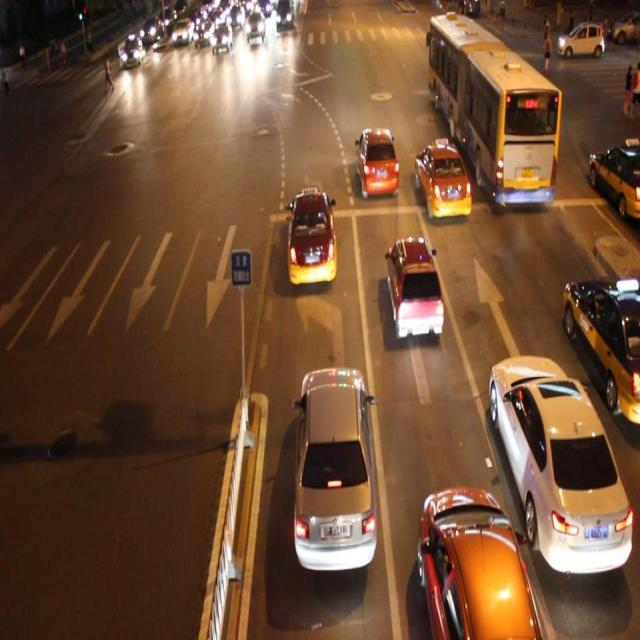car: (487, 353, 630, 574), (416, 486, 541, 640), (293, 366, 376, 576), (560, 274, 640, 425), (382, 235, 442, 340), (284, 186, 337, 286), (414, 137, 470, 220), (587, 138, 640, 220), (354, 127, 399, 200)
van: (428, 13, 561, 209)
